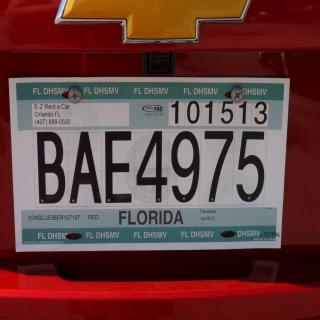license: (6, 77, 288, 258)
